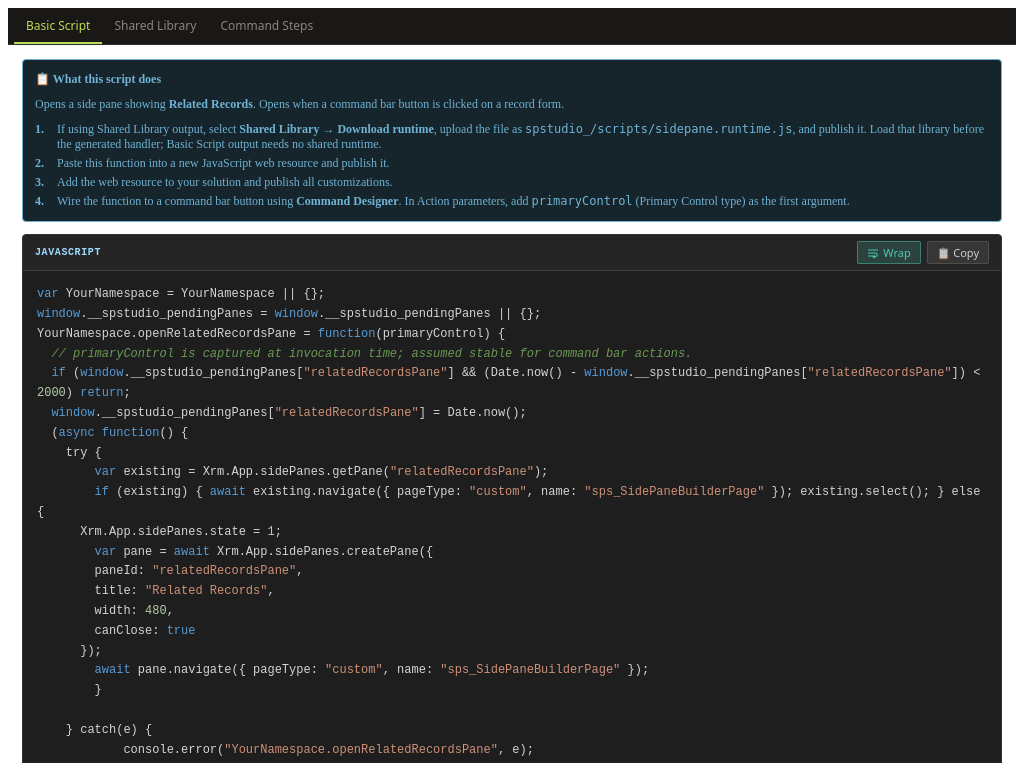
runtime download › shows native save errors without silently starting another download
This screenshot has width=1024, height=763.
Click the tab "Shared Library". click: (155, 26)
box: x1=102 y1=8 x2=208 y2=44
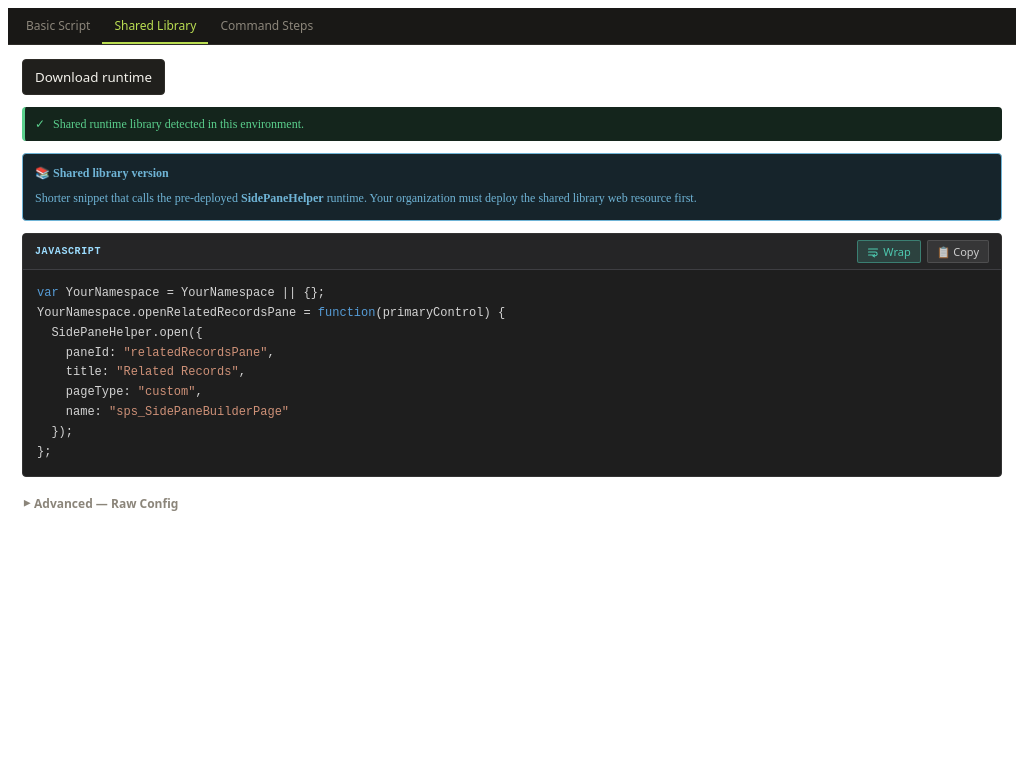
Click the button "Download runtime". click: (94, 77)
box: x1=22 y1=59 x2=165 y2=95
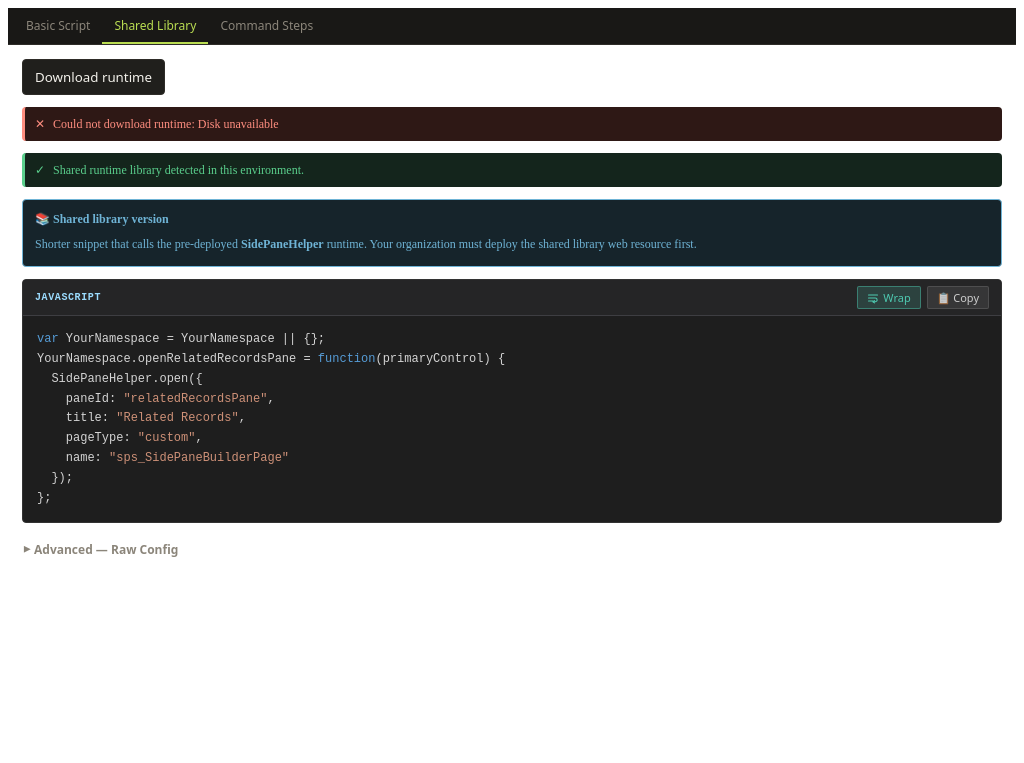
expect the text "Could not download runtime: Disk unavailable" is shown: met, box x1=53 y1=115 x2=279 y2=133
